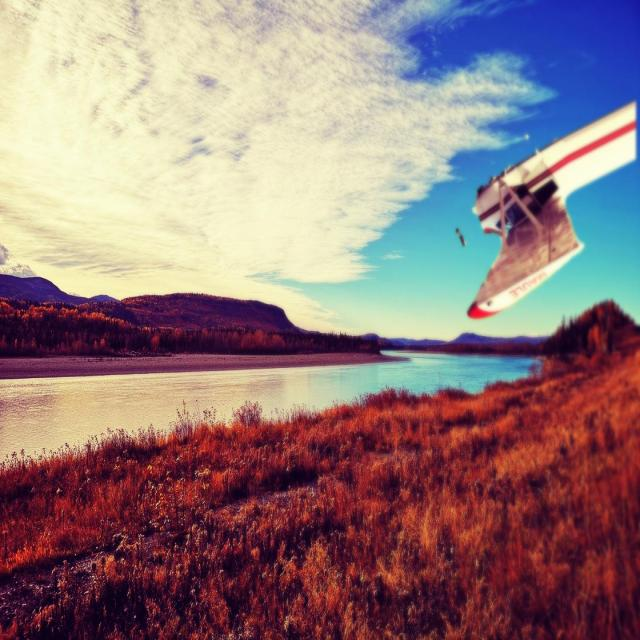airplane: (465, 99, 636, 320)
